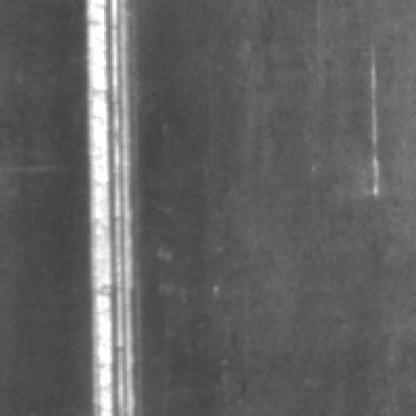scratches: (85, 0, 150, 412)
